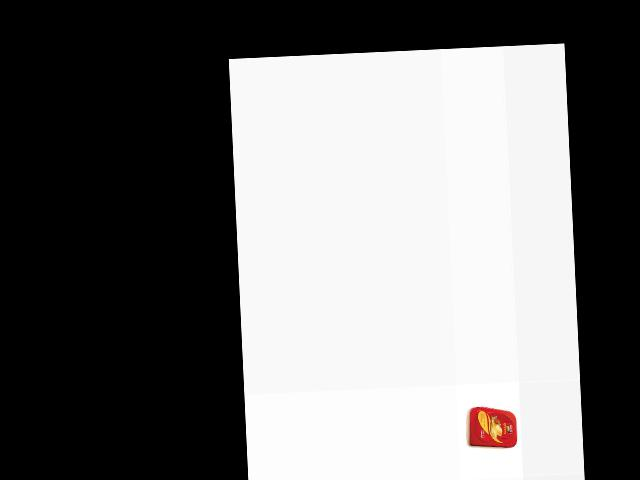cheese: (465, 405, 520, 451)
